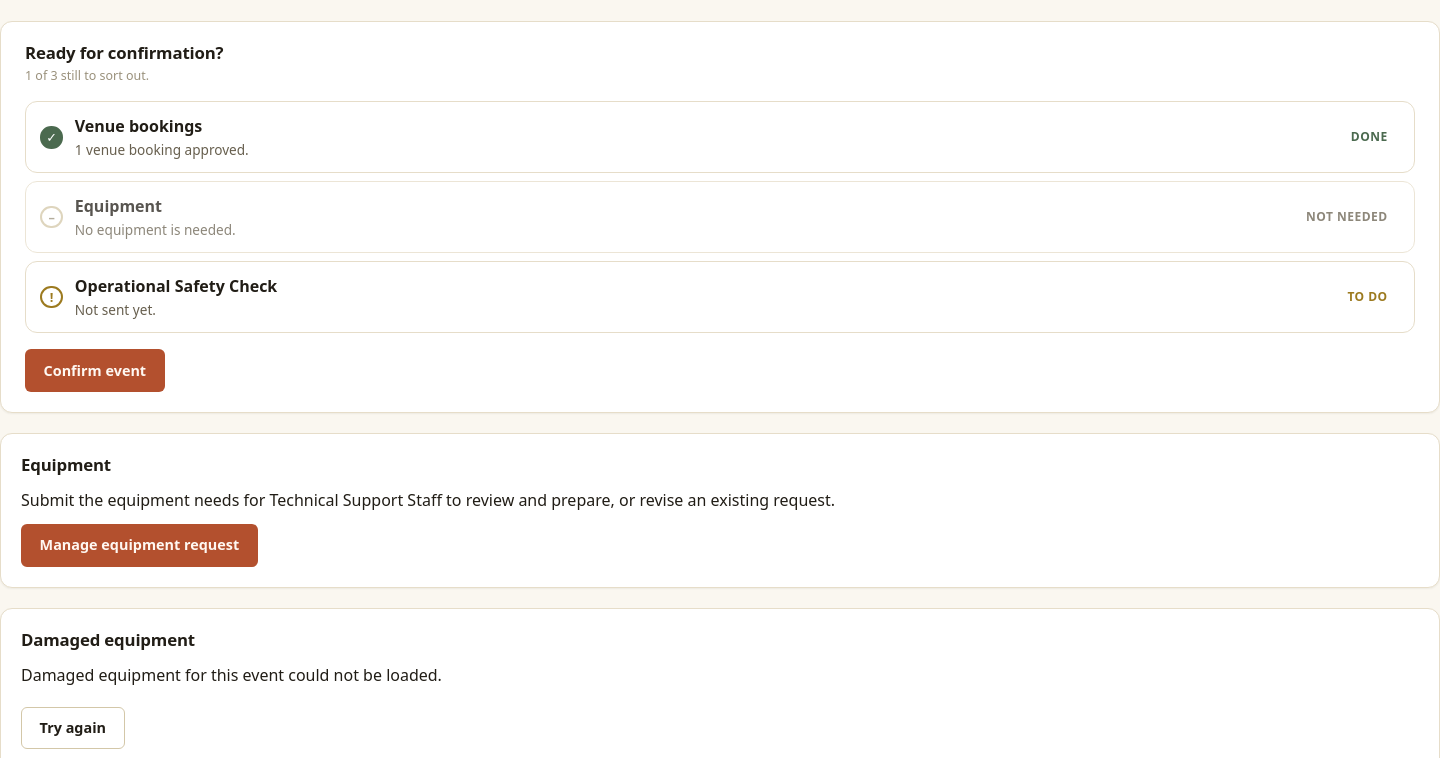
Test: EC08 readiness, send for safety review, withdraw and confirm › EC08 AC5, AC27 (conflict): says what changed when a prerequisite stopped holding before Confirm, and refreshes the checklist
(page scrolled)
What coordinates should you click on to do the following:
click the button "Confirm event"
I would click on:
 (95, 371)
Its box is [25,349,165,392].
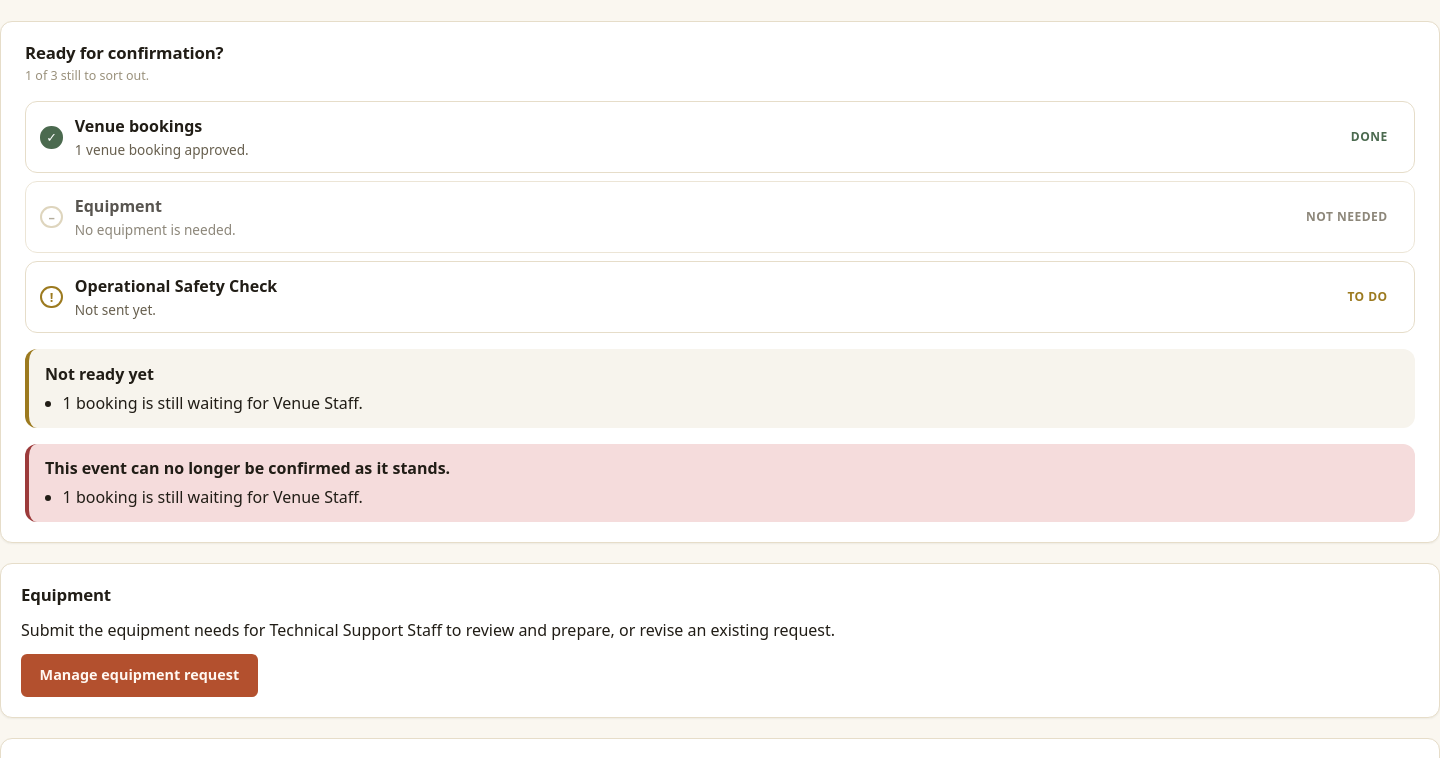
Check: the 2nd message shows "This event can no longer be confirmed as it stands.", box [45,458,450,480]
Check: the 2nd message shows "1 booking is still waiting for Venue Staff.", box [63,486,363,508]
Check: the button "Confirm event" is gone
